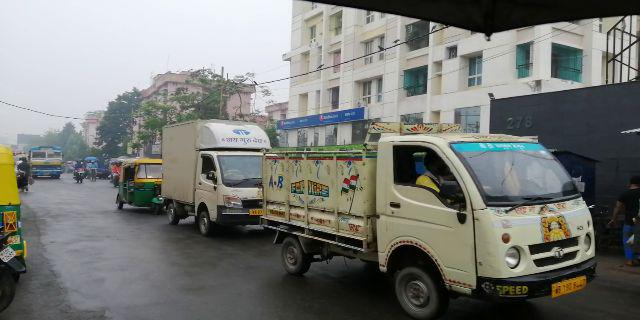Autorickshaw: (120, 155, 156, 208)
Bus: (29, 144, 61, 179)
Minitruck: (266, 137, 601, 306), (161, 120, 255, 227)
